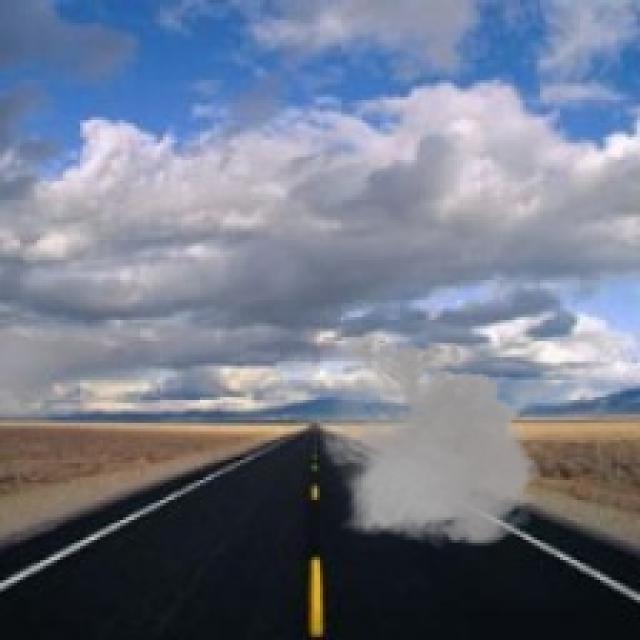Smoke: (308, 328, 548, 554)
